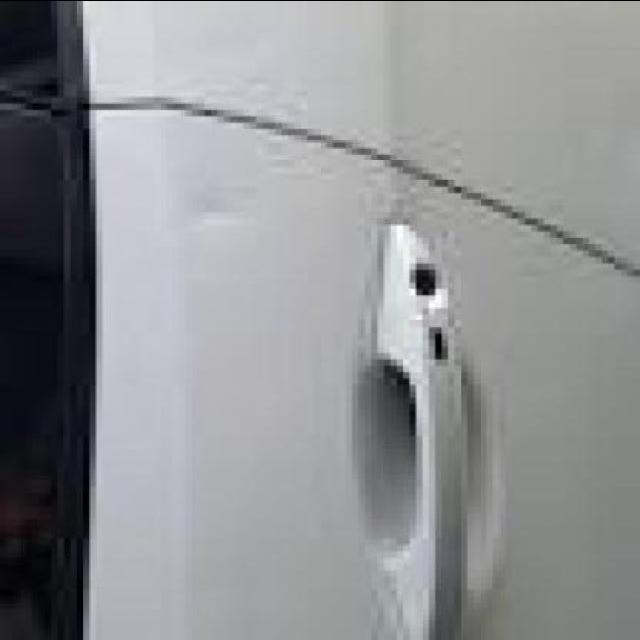doorouter-dent: (166, 178, 262, 261)
